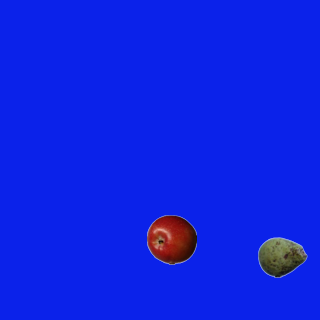Apple Braeburn: (146, 214, 196, 264)
Pear Stone: (257, 232, 307, 282)
